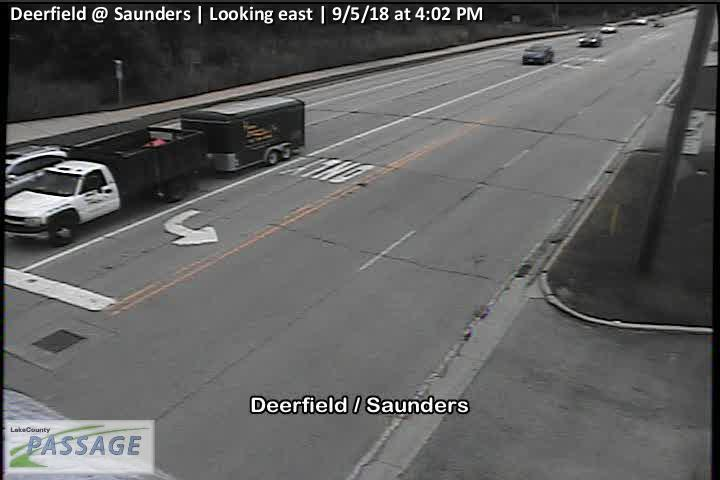Sedan: (4, 143, 72, 202), (523, 42, 553, 64), (576, 33, 602, 48), (601, 23, 617, 32)
Truck: (3, 94, 304, 245)
